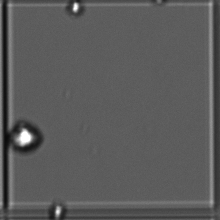Living Cell: (8, 117, 49, 157), (65, 1, 91, 23)
